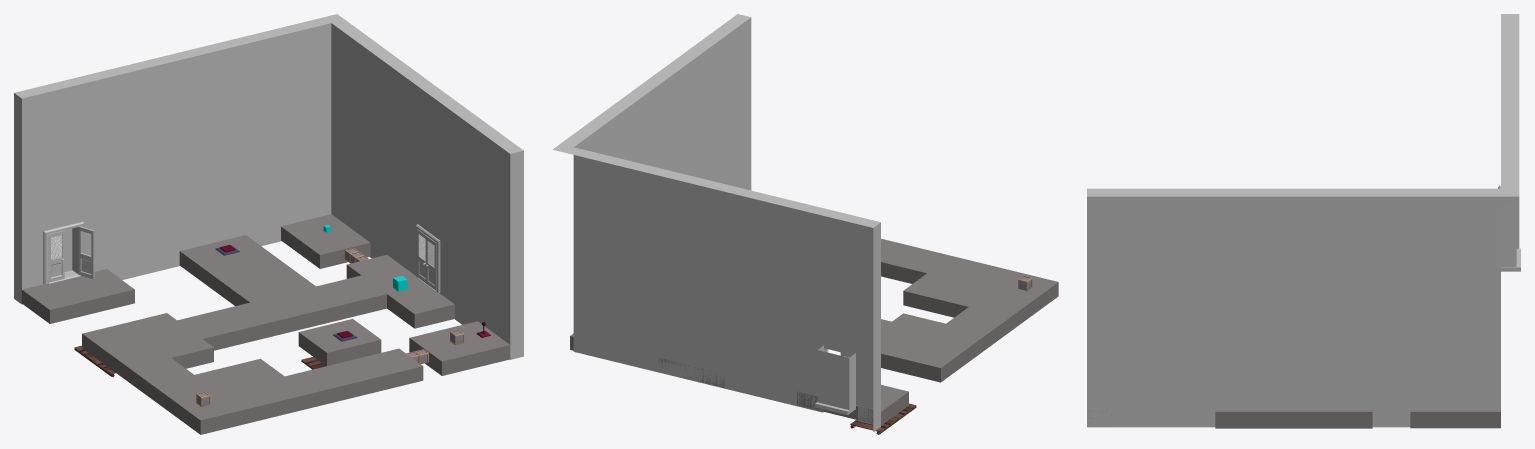
File: Level[Submerged].fbx
3 views of the same model, side by side, from view 1: azimuth 30°, elevation 25°; view 2: azimuth 150°, elevation 25°; view 3: azimuth 270°, elevation 25° (orthographic). The views are drawn at different scales.
Visible parts, largest first — view 1: polySurface3, polySurface2, polySurface128, polySurface138, polySurface4, polySurface126, polySurface5, polySurface134, polySurface132, polySurface125, polySurface136, polySurface123 (+8 smaller); view 2: polySurface3, polySurface2, polySurface138, polySurface5, polySurface4, polySurface132, polySurface134, polySurface130, polySurface63, polySurface125; view 3: polySurface2, polySurface136, polySurface3, polySurface124, polySurface33, polySurface64, polySurface4.
Boxes of the visible parts, x1,y1,x2,y2 form: polySurface3: (72,14,336,279); polySurface2: (331,14,523,359); polySurface128: (177,275,386,350); polySurface138: (82,323,242,434); polySurface4: (14,87,45,304); polySurface126: (179,235,315,305); polySurface5: (37,79,79,230); polySurface134: (285,348,423,408); polySurface132: (195,359,308,424); polySurface125: (22,269,134,323); polySurface136: (346,255,454,328); polySurface123: (409,321,510,375); polySurface3: (553,147,823,412); polySurface2: (553,14,751,190); polySurface138: (899,272,1058,382); polySurface5: (816,208,857,355); polySurface4: (850,216,880,431); polySurface132: (903,256,1016,317); polySurface134: (881,238,950,283); polySurface130: (881,313,945,372); polySurface63: (817,350,849,409); polySurface125: (797,385,908,425); polySurface2: (1087,188,1518,427); polySurface136: (1215,410,1372,428); polySurface3: (1501,46,1519,196); polySurface124: (1410,410,1500,428); polySurface33: (1248,348,1301,408); polySurface64: (1501,205,1516,266); polySurface4: (1501,14,1519,248).
Size of what is drawn, in the model's own units: 35 by 24.83 by 35.15.
